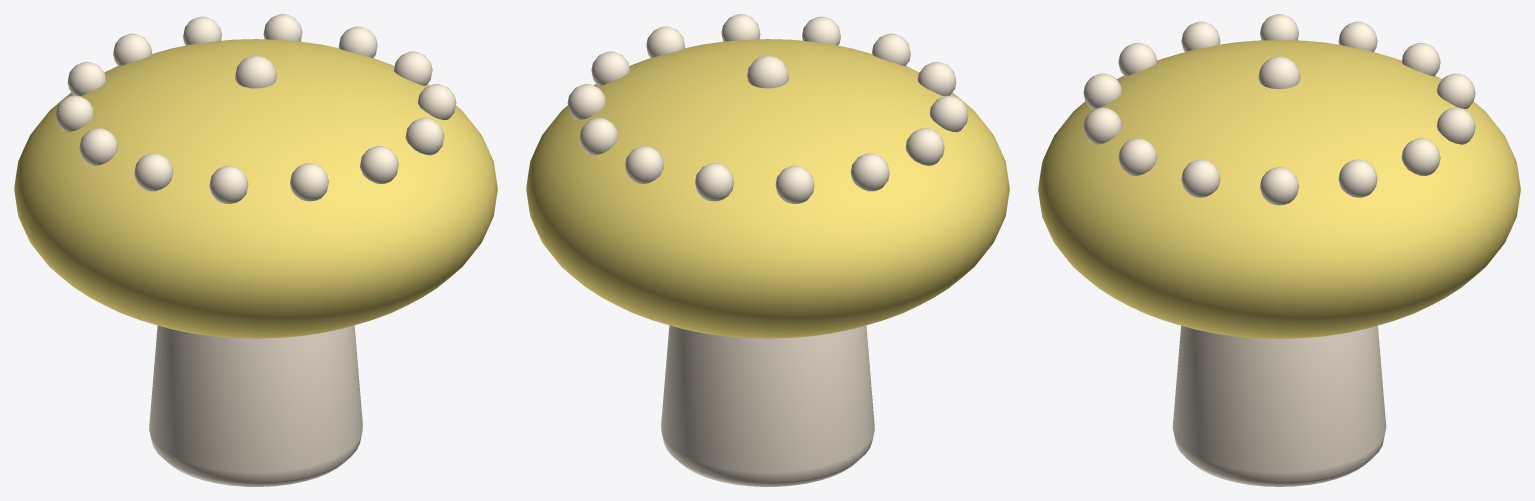
File: bumper.glb
3 views of the same model, side by side, from view 1: azimuth 30°, elevation 25°; view 2: azimuth 150°, elevation 25°; view 3: azimuth 270°, elevation 25° (orthographic).
Parts seen in each view (by area): view 1: bumper; view 2: bumper; view 3: bumper.
Boxes of the visible parts, x1,y1,x2,y2 form: bumper: [14, 14, 497, 486]; bumper: [526, 14, 1009, 486]; bumper: [1038, 14, 1520, 486].
Size of the model in its own units: 1.6 by 1.43 by 1.6.
